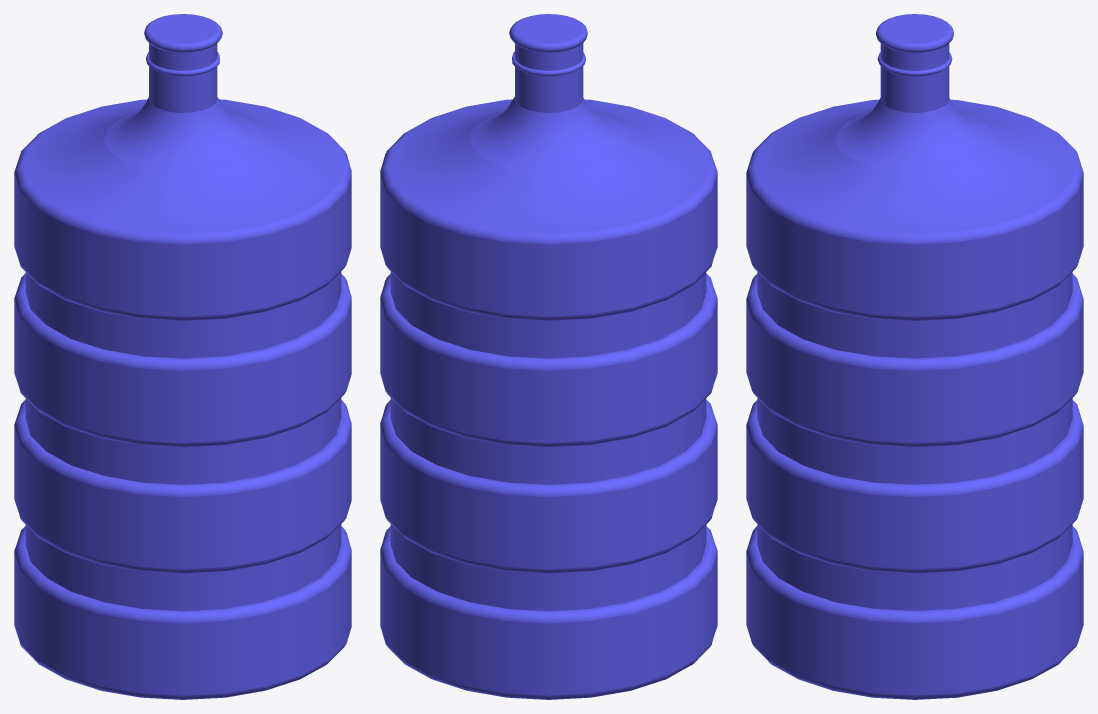
The picture shows the model from 3 angles, left to right: view 1: azimuth 30°, elevation 25°; view 2: azimuth 150°, elevation 25°; view 3: azimuth 270°, elevation 25°; orthographic projection.
Parts seen in each view (by area): view 1: mesh1_mesh1-geometry; view 2: mesh1_mesh1-geometry; view 3: mesh1_mesh1-geometry.
Part boxes in pixels (<box>): mesh1_mesh1-geometry: <box>14,14,351,699</box>; mesh1_mesh1-geometry: <box>380,14,717,699</box>; mesh1_mesh1-geometry: <box>746,14,1083,699</box>.
Size of the model in its own units: 0.4123 by 0.8124 by 0.4123.
